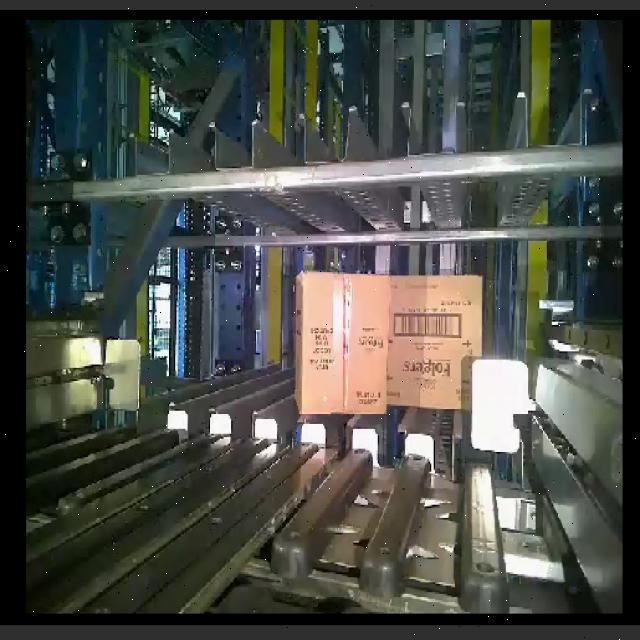box: (294, 272, 303, 416)
